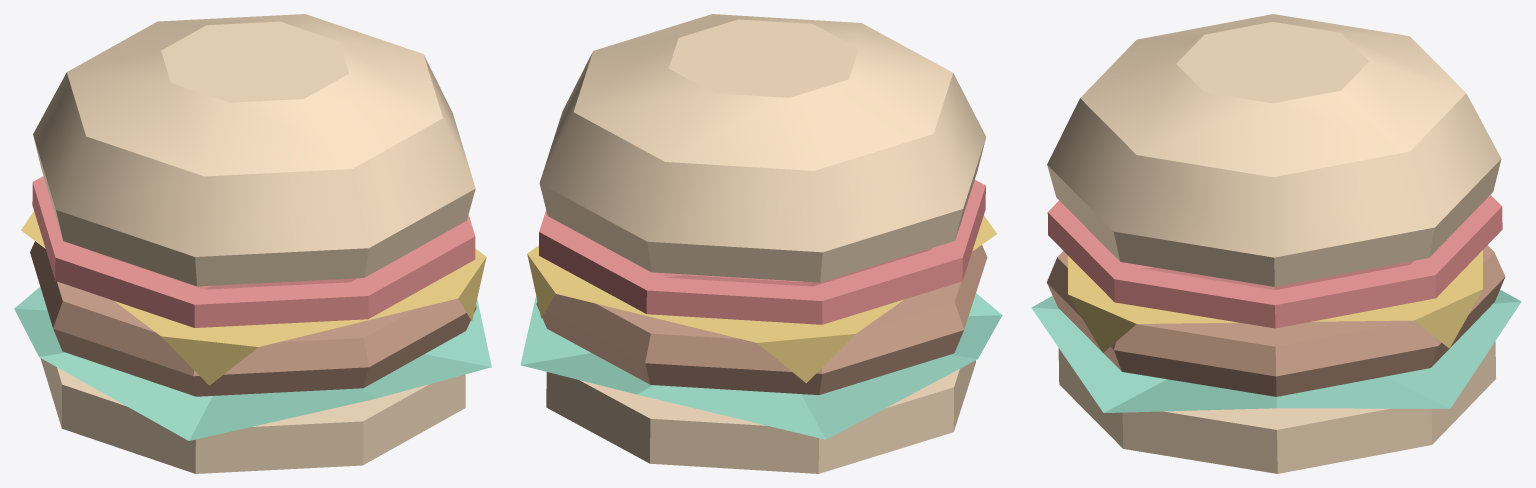
Rendered from burgerCheese.glb.
The picture shows the model from 3 angles, left to right: view 1: azimuth 30°, elevation 25°; view 2: azimuth 150°, elevation 25°; view 3: azimuth 270°, elevation 25°; orthographic projection.
Parts seen in each view (by area): view 1: bunTop, patty, bunBottom, tomato, salad, cheese; view 2: bunTop, patty, bunBottom, tomato, salad, cheese; view 3: bunTop, patty, tomato, bunBottom, salad, cheese.
Boxes of the visible parts, <box> form: bunTop: <box>33,14,475,286</box>; patty: <box>30,241,476,396</box>; bunBottom: <box>40,358,465,473</box>; tomato: <box>32,176,475,327</box>; salad: <box>14,287,491,440</box>; cheese: <box>21,211,486,385</box>; bunTop: <box>539,14,985,282</box>; patty: <box>536,245,987,394</box>; bunBottom: <box>546,360,975,473</box>; tomato: <box>539,180,985,324</box>; salad: <box>520,293,1002,439</box>; cheese: <box>527,215,996,383</box>; bunTop: <box>1047,14,1501,286</box>; patty: <box>1047,245,1505,396</box>; tomato: <box>1047,195,1502,328</box>; bunBottom: <box>1058,341,1496,473</box>; salad: <box>1031,289,1521,412</box>; cheese: <box>1068,250,1482,352</box>.
Bounding box in the file's own units: 0.4041 × 0.2936 × 0.4041.
